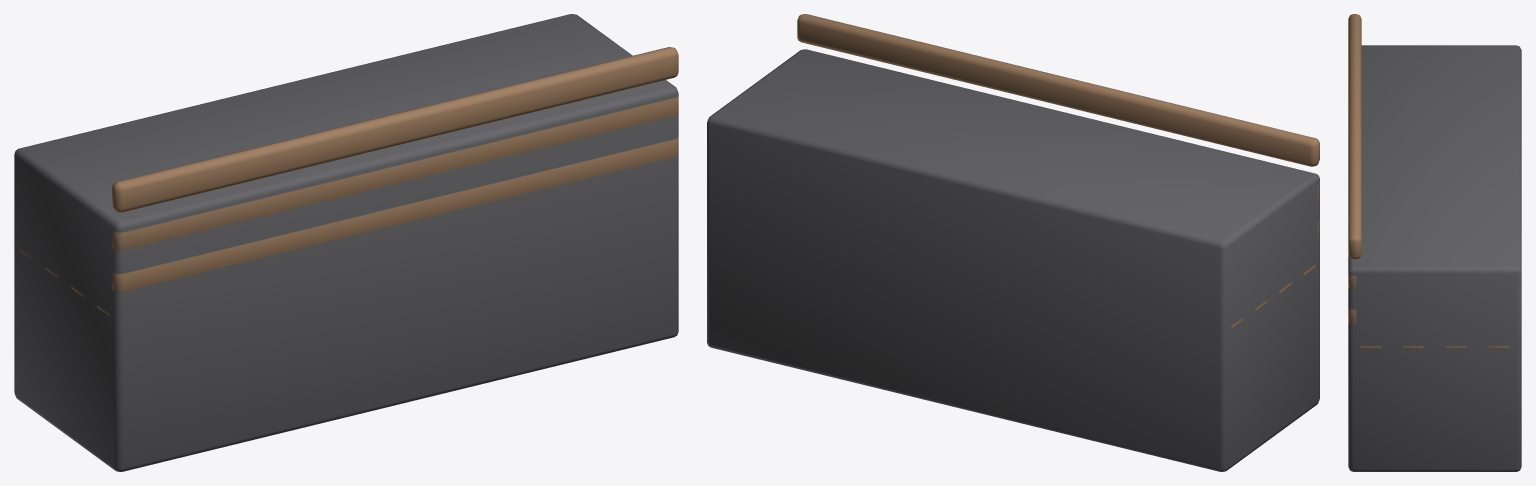
The model's file is panchina.glb.
The picture shows the model from 3 angles, left to right: view 1: azimuth 30°, elevation 25°; view 2: azimuth 150°, elevation 25°; view 3: azimuth 270°, elevation 25°; orthographic projection. The views are drawn at different scales.
Parts seen in each view (by area): view 1: COL_panchina, schienale_2, schienale_1, schienale_0; view 2: COL_panchina, schienale_2; view 3: COL_panchina, schienale_2.
Boxes of the visible parts, box(x1,y1,x2,y2) form: COL_panchina: box(14, 14, 678, 471); schienale_2: box(112, 47, 678, 212); schienale_1: box(112, 96, 678, 250); schienale_0: box(112, 137, 678, 291); COL_panchina: box(707, 49, 1319, 471); schienale_2: box(797, 14, 1319, 166); COL_panchina: box(1348, 45, 1521, 471); schienale_2: box(1348, 14, 1361, 259).
Size of the model in its own units: 2 by 0.98 by 0.65.
